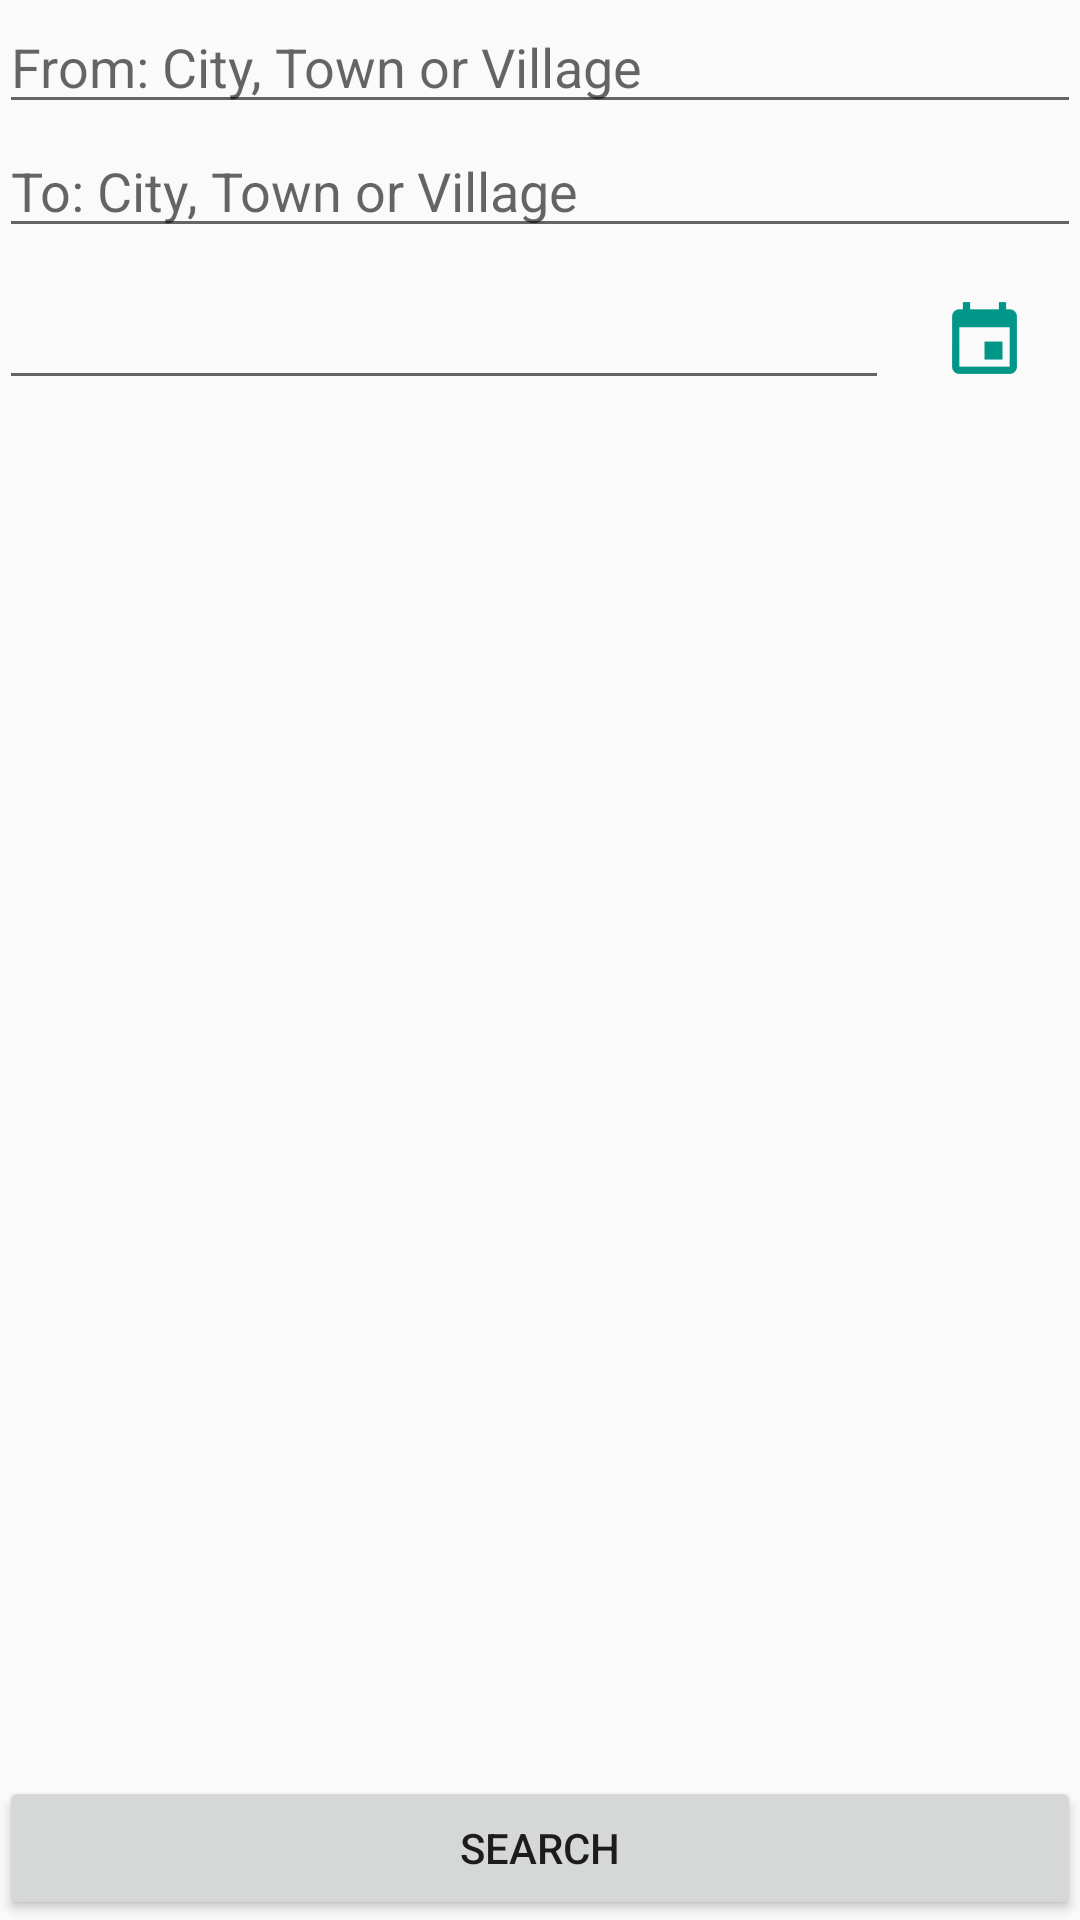

Icons on this 1080×1920 Android screen, each with the point to tap as (x=x, y=y):
Open date picker: (x=984, y=338)
